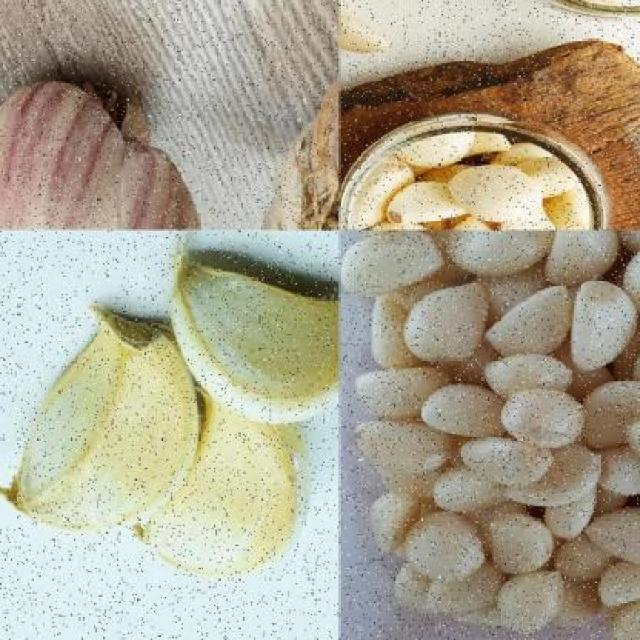garlic: (343, 230, 639, 639), (1, 296, 201, 532), (128, 370, 306, 581), (412, 350, 602, 518), (156, 258, 338, 432), (0, 78, 208, 230), (348, 125, 596, 229), (403, 281, 494, 367), (402, 508, 486, 590), (568, 275, 638, 373), (416, 379, 512, 442), (454, 436, 556, 494), (500, 387, 588, 452), (443, 163, 544, 214), (482, 512, 560, 577), (501, 570, 571, 634), (396, 128, 472, 170), (338, 0, 389, 58)
